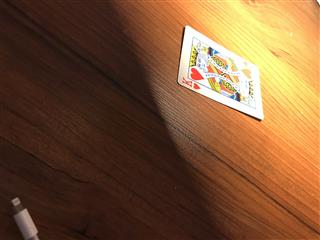KingOfHearts: (176, 24, 264, 120)
